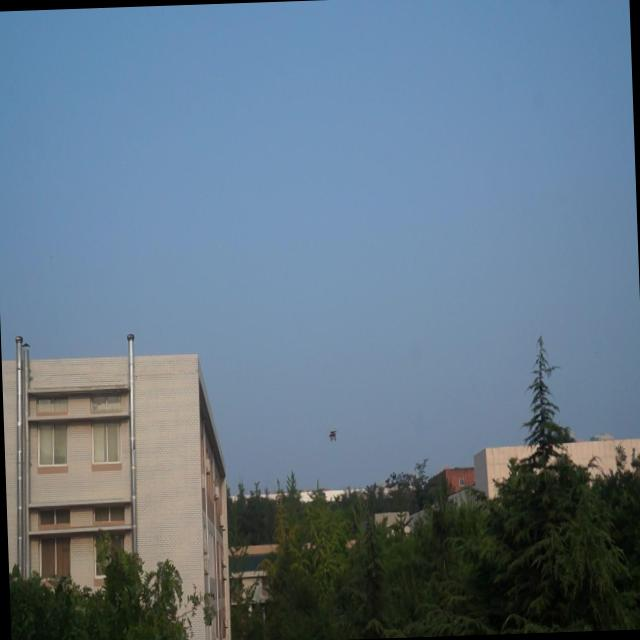drone: (326, 425, 338, 444)
